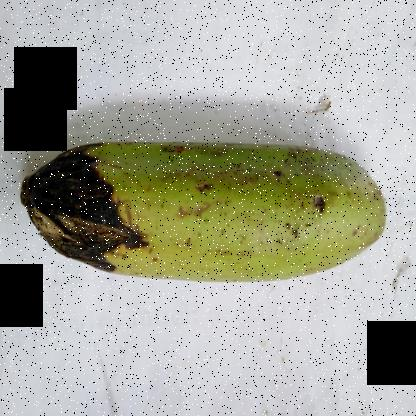rotten: (14, 120, 182, 294)
unripe: (144, 116, 386, 321)
